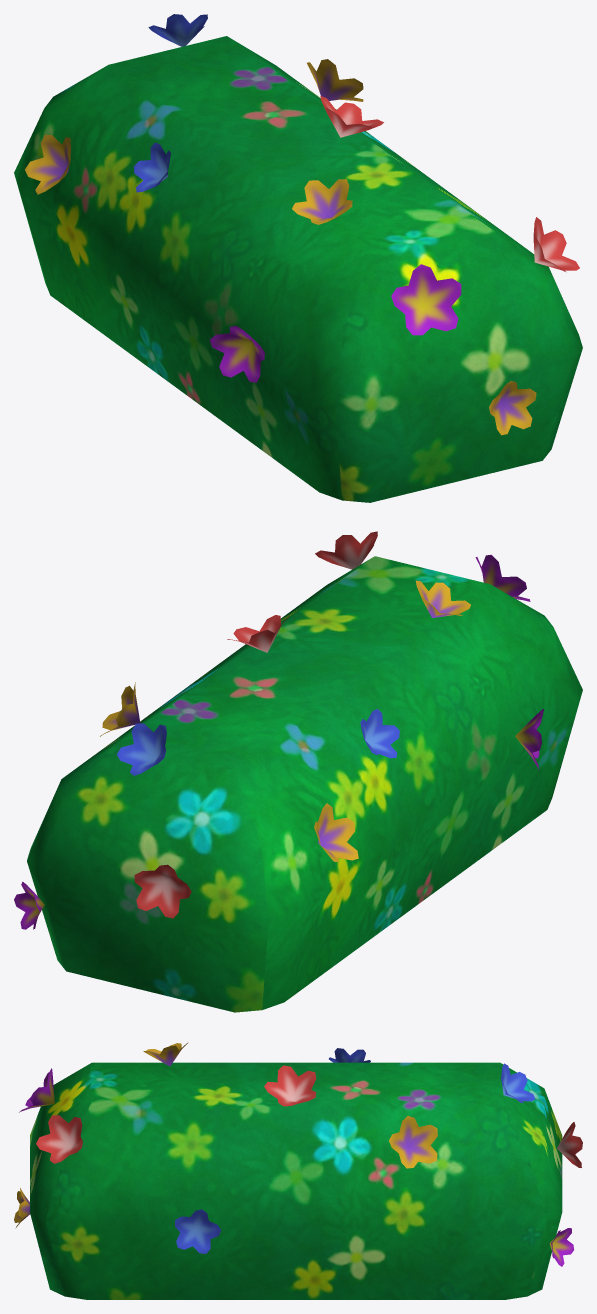
Rendered from Plant03_b02.FBX.
3 renders of one model, top to bottom at view 1: azimuth 30°, elevation 25°; view 2: azimuth 150°, elevation 25°; view 3: azimuth 270°, elevation 25°, orthographic. The views are drawn at different scales.
Visible parts, largest first — view 1: Plant03_b02; view 2: Plant03_b02; view 3: Plant03_b02.
Part boxes in pixels (box(x1,y1,x2,y2)): Plant03_b02: box(14, 14, 582, 502); Plant03_b02: box(14, 531, 582, 1012); Plant03_b02: box(14, 1042, 582, 1299).
Size of the model in its own units: 164 by 126 by 324.
Materials: 2 (2 with a texture image).
